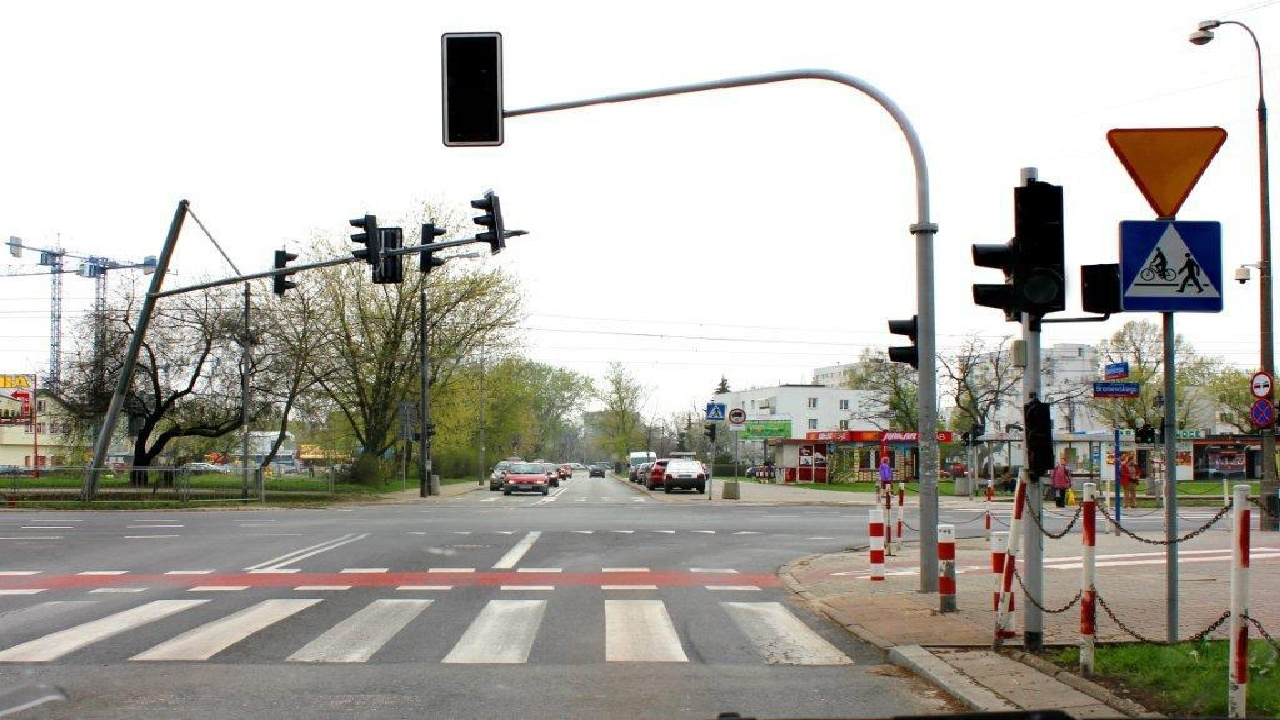A7: (1108, 127, 1227, 219)
D6b: (1119, 220, 1224, 314)
